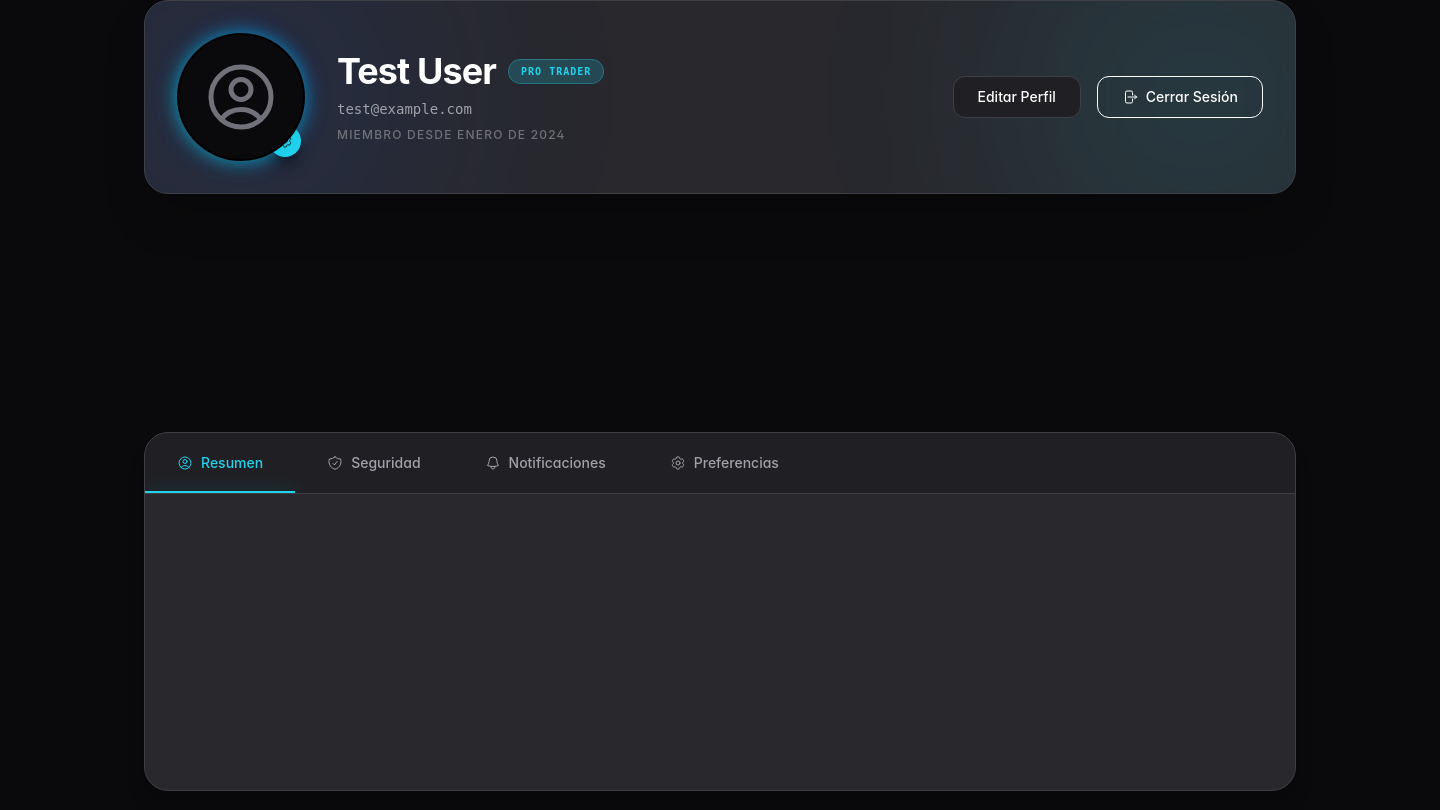
Scenario: Profile Component › changes tabs when clicked
What coordinates should you click on to do the following:
click the button "Seguridad"
I would click on:
 (374, 463)
Its box is [295,433,453,493].
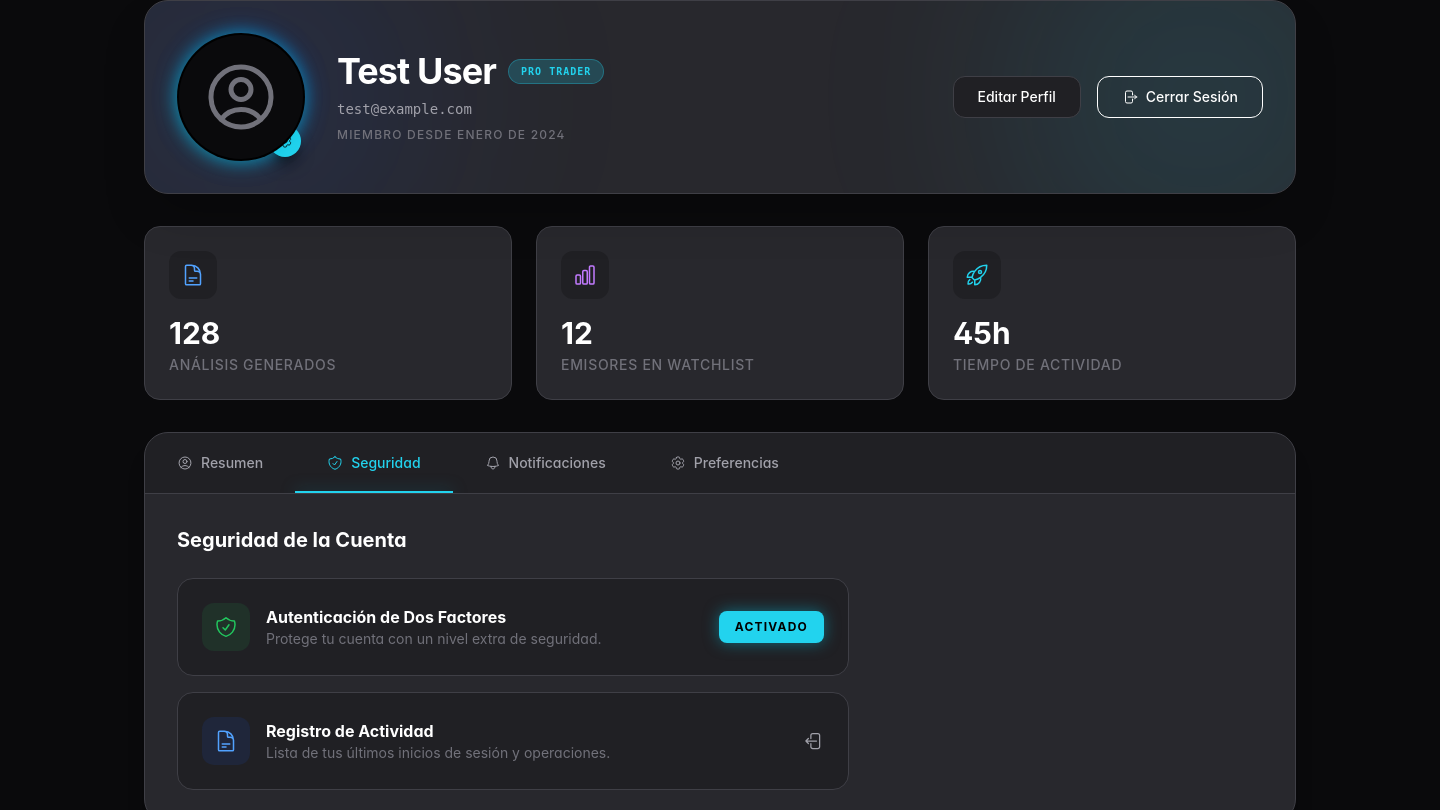
Now the heading "Seguridad de la Cuenta" is shown, box [177,528,407,552]
